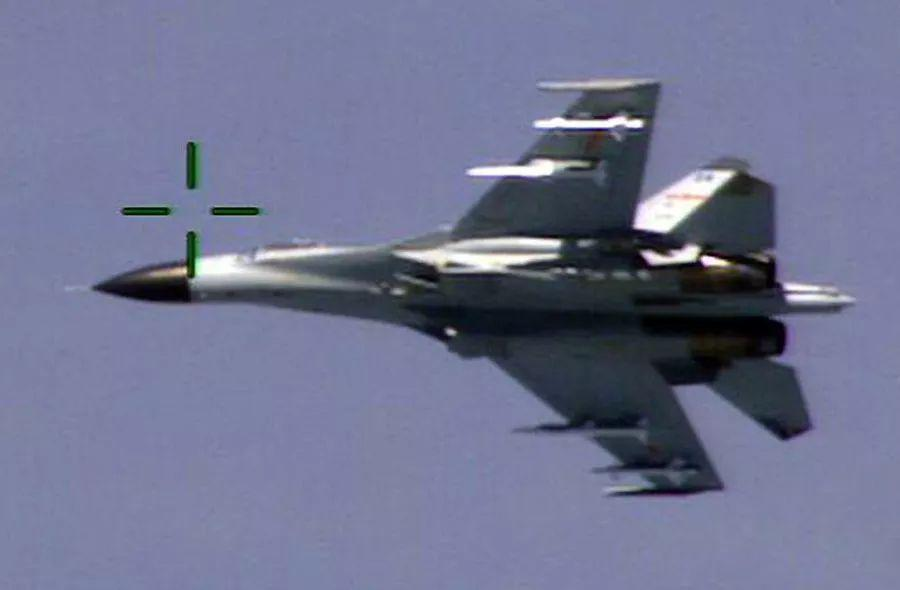airplane: (77, 79, 856, 501)
